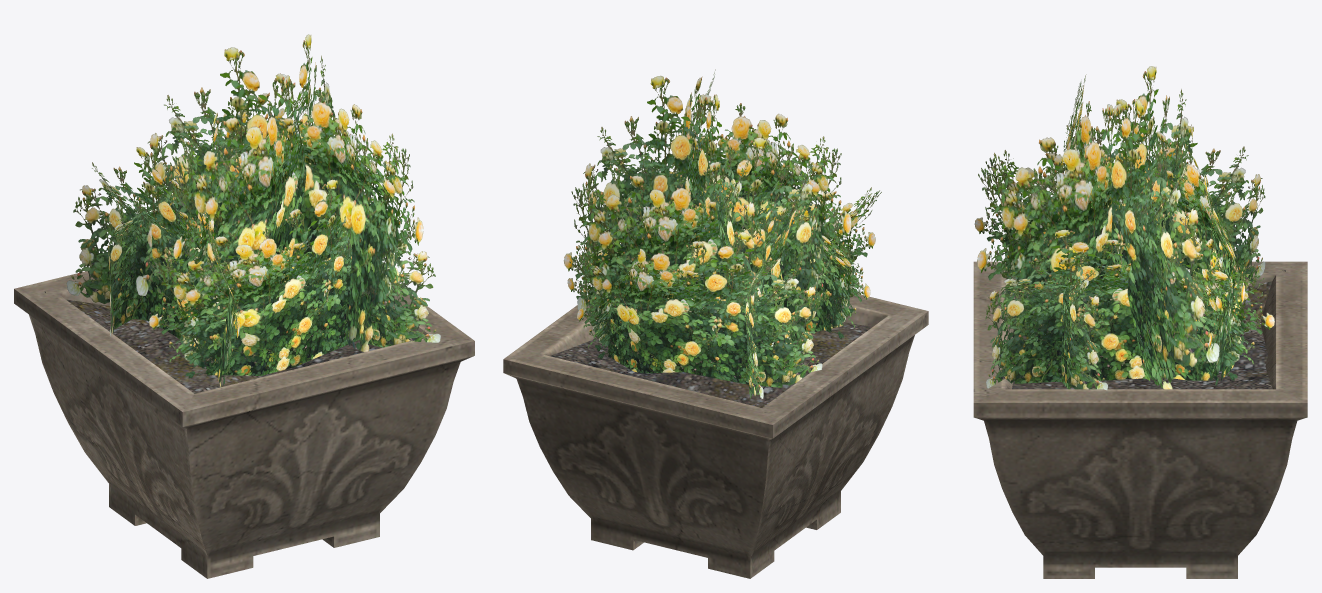
File: Flower_Pot_05.fbx
3 renders of one model, left to right at view 1: azimuth 30°, elevation 25°; view 2: azimuth 150°, elevation 25°; view 3: azimuth 270°, elevation 25°, orthographic. The views are drawn at different scales.
Visible parts, largest first — view 1: Flower_Pot_05_LOD0; view 2: Flower_Pot_05_LOD0; view 3: Flower_Pot_05_LOD0.
Boxes of the visible parts, box(x1,y1,x2,y2) form: Flower_Pot_05_LOD0: box(14, 34, 474, 578); Flower_Pot_05_LOD0: box(503, 69, 928, 578); Flower_Pot_05_LOD0: box(973, 66, 1307, 578).
Size of what is drawn, in the model's own units: 39.58 by 63.14 by 41.52.
